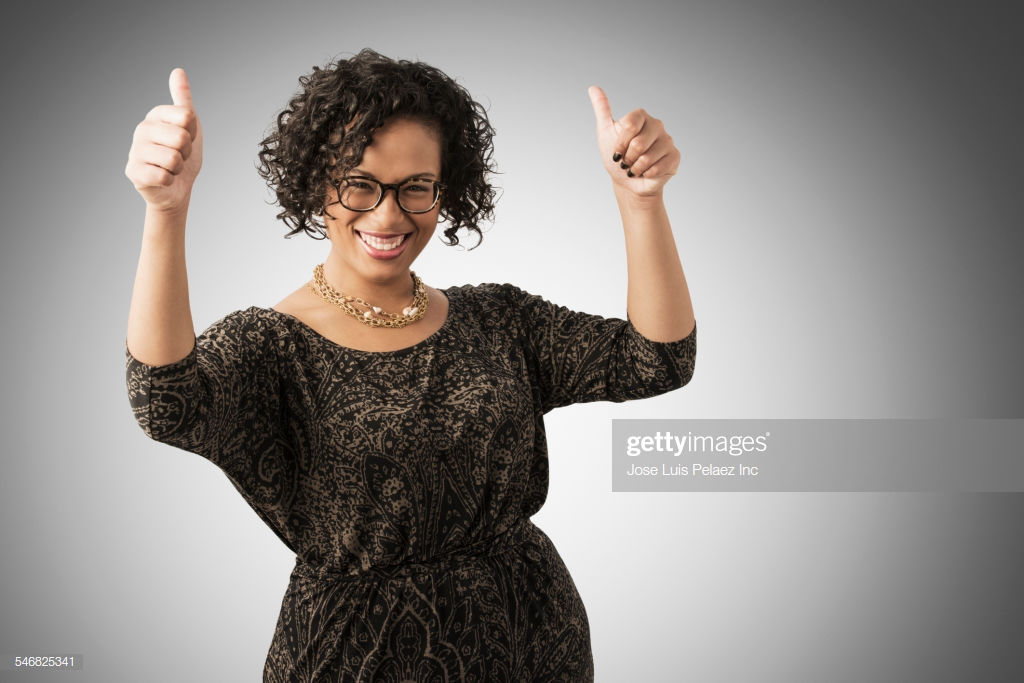thumbsup: (123, 66, 197, 189), (588, 84, 681, 181)
